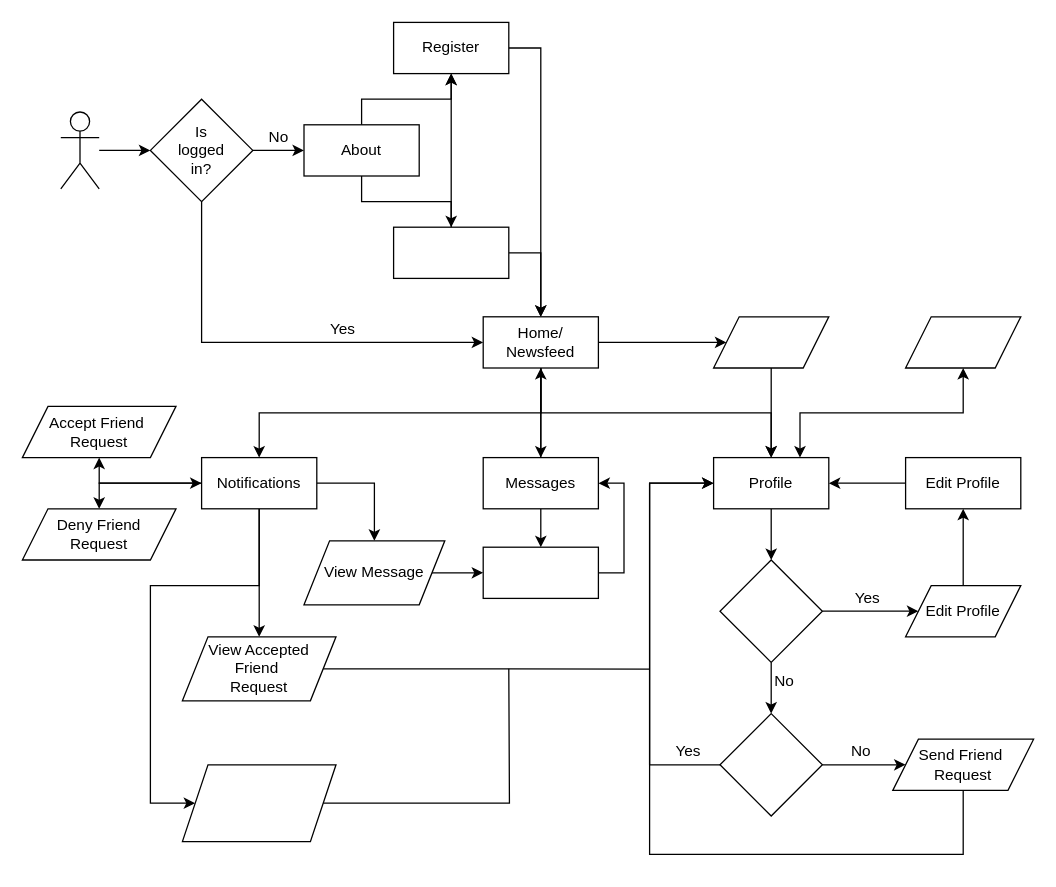
Some shapes in this 1056 by 887 pixel diagram are drawn without their labels. The box of each missing label's shape, as (x1, y1, x2, y2) in pixels:
Edit/Create Message: (482, 546, 598, 598)
Friends List: (904, 316, 1021, 368)
Is friend?: (719, 712, 822, 816)
Is user?: (719, 559, 822, 662)
liked or commented: (181, 764, 336, 842)
Login: (392, 226, 509, 278)
Search: (712, 316, 829, 368)
